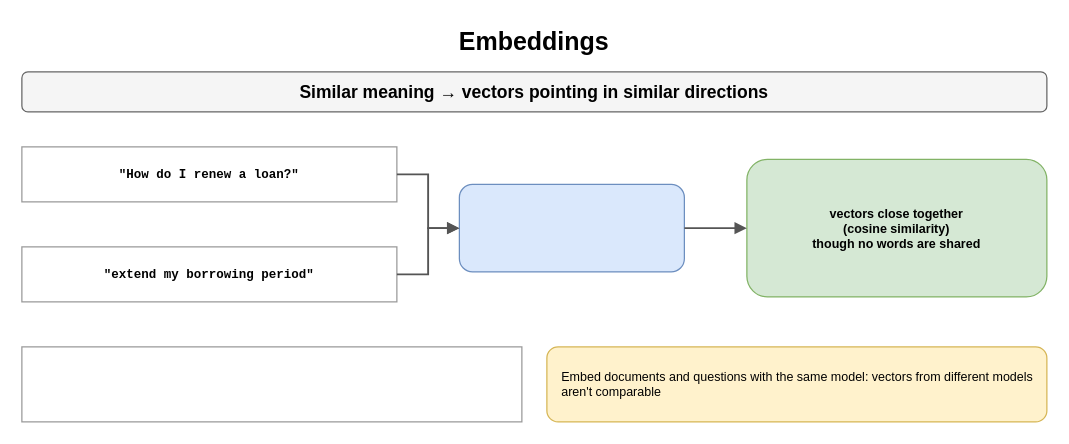
This 1069x444 diagram has some shape labels left out. Each missing label, with the centre of its shape:
"EmbeddingModel (e.g. Ollama nomic-embed-text)" goes at point (571, 227).
"spring.ai.model.chat=anthropic spring.ai.model.embedding=ollama" goes at point (271, 384).
